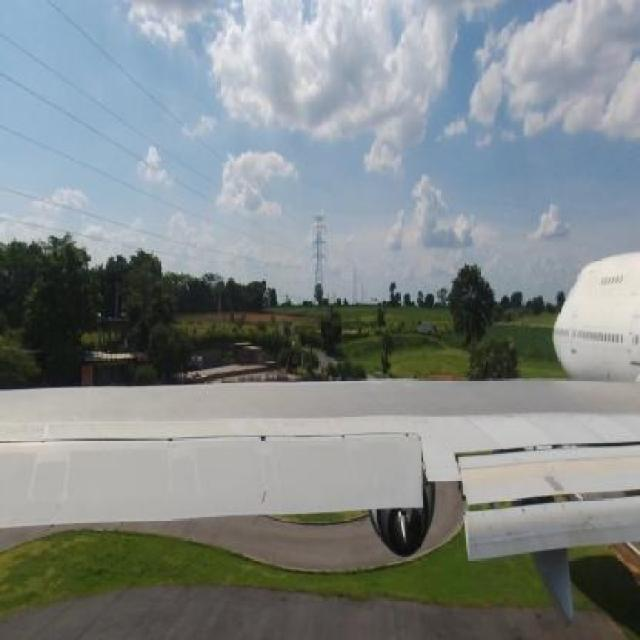Scartch: (258, 484, 274, 507)
